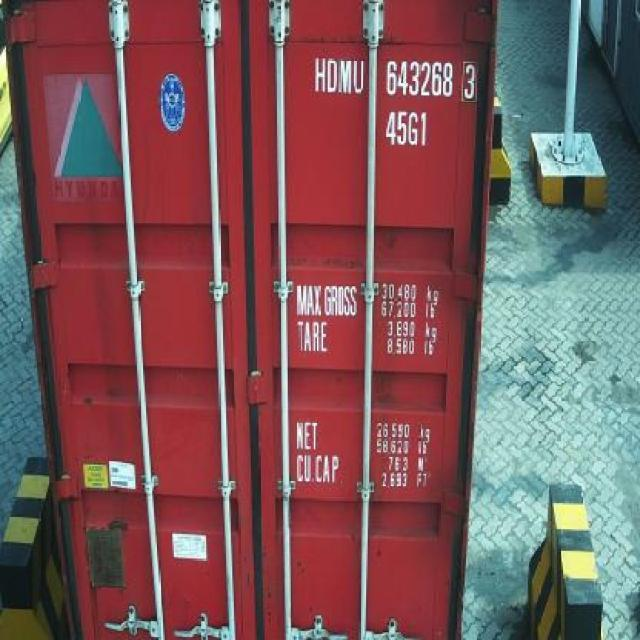ISO: (382, 112, 430, 146)
container_number: (313, 56, 477, 92)
